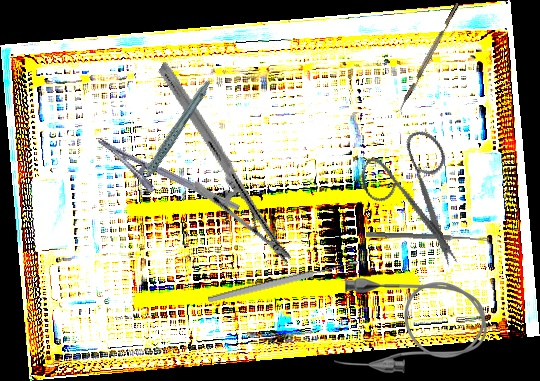Cannula: (334, 278, 487, 373)
Chopper: (395, 2, 465, 117)
Handpiece: (112, 78, 230, 192)
Iris Scissors: (340, 114, 502, 271)
Needle Holder: (105, 60, 345, 267), (87, 136, 241, 231)
Surgical Spoon: (207, 258, 359, 305), (365, 231, 490, 243)
